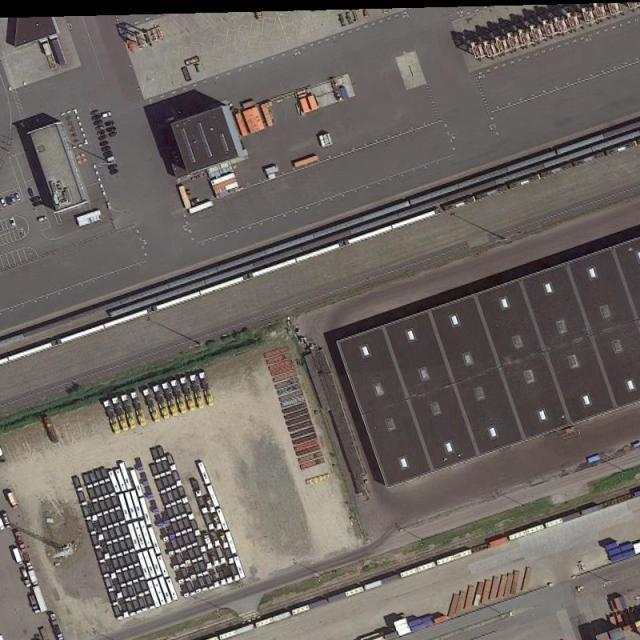vehicle: (151, 383, 175, 425), (161, 379, 184, 422), (187, 370, 209, 413), (140, 386, 164, 425), (101, 397, 124, 437), (119, 393, 142, 433), (128, 390, 151, 430), (111, 394, 133, 434), (178, 374, 200, 414), (170, 376, 191, 416), (197, 368, 218, 408), (40, 412, 61, 444), (46, 611, 66, 640), (24, 587, 45, 614), (12, 526, 26, 552), (10, 544, 25, 564), (18, 567, 32, 588), (36, 622, 52, 640), (6, 491, 19, 510), (22, 550, 34, 569), (91, 114, 104, 122), (8, 216, 16, 228), (36, 215, 48, 223), (98, 134, 110, 142), (98, 139, 110, 147), (107, 162, 119, 170), (1, 514, 6, 532), (90, 109, 101, 117), (93, 118, 104, 126), (26, 187, 34, 198), (101, 145, 112, 153), (14, 191, 22, 202), (32, 200, 44, 207), (30, 195, 40, 203), (104, 150, 114, 158), (102, 111, 112, 118), (110, 168, 119, 175), (95, 124, 105, 130), (96, 130, 106, 136), (5, 196, 11, 206), (10, 194, 16, 204), (1, 630, 6, 640), (104, 122, 114, 127), (108, 132, 118, 137), (1, 198, 6, 208), (106, 127, 116, 131)
